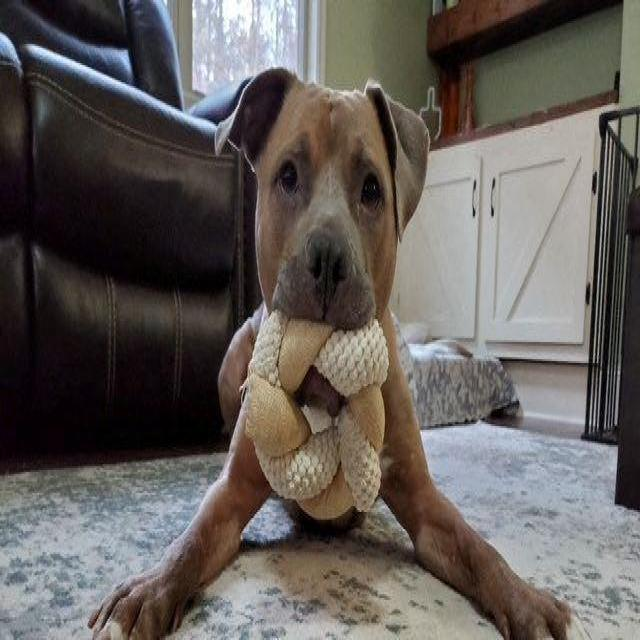Dog: (208, 59, 438, 348)
